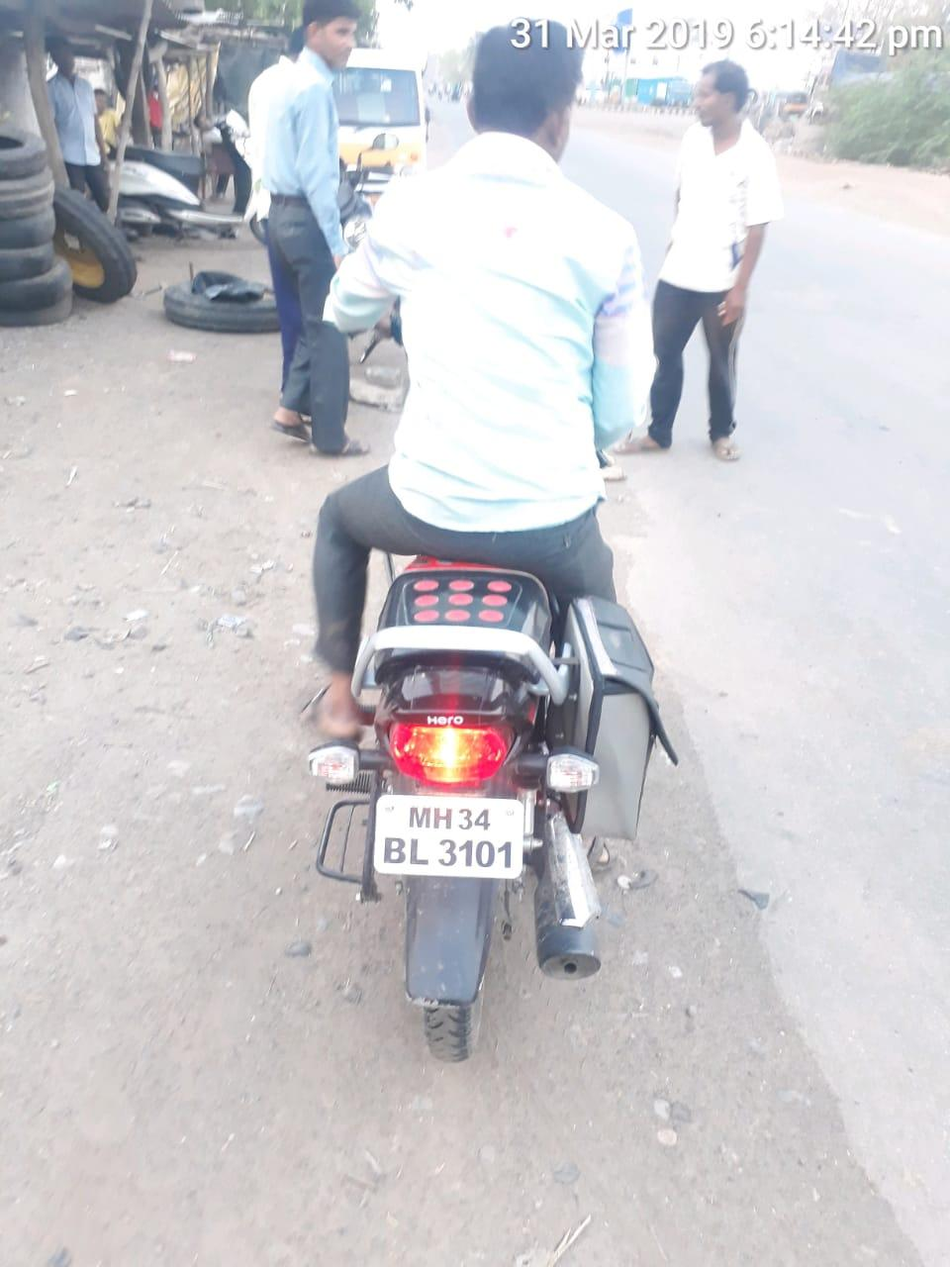plate: (365, 779, 543, 898)
